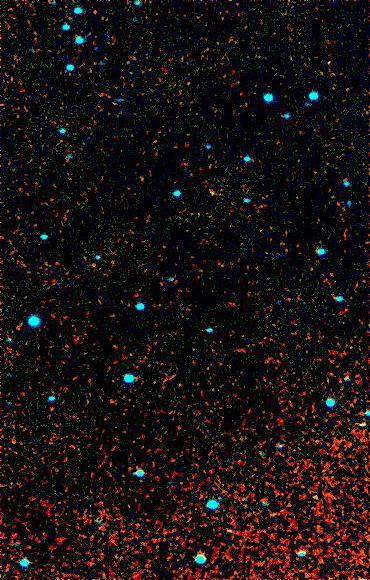star: (197, 179, 227, 209)
